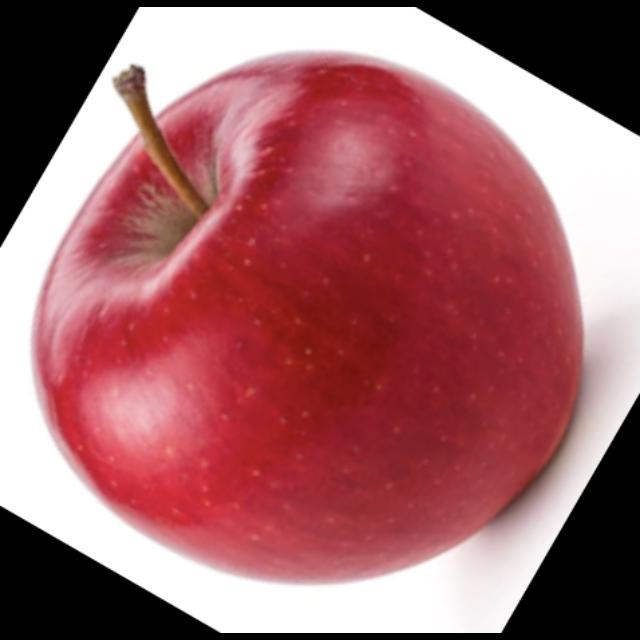Apel Segar: (27, 51, 586, 589)
